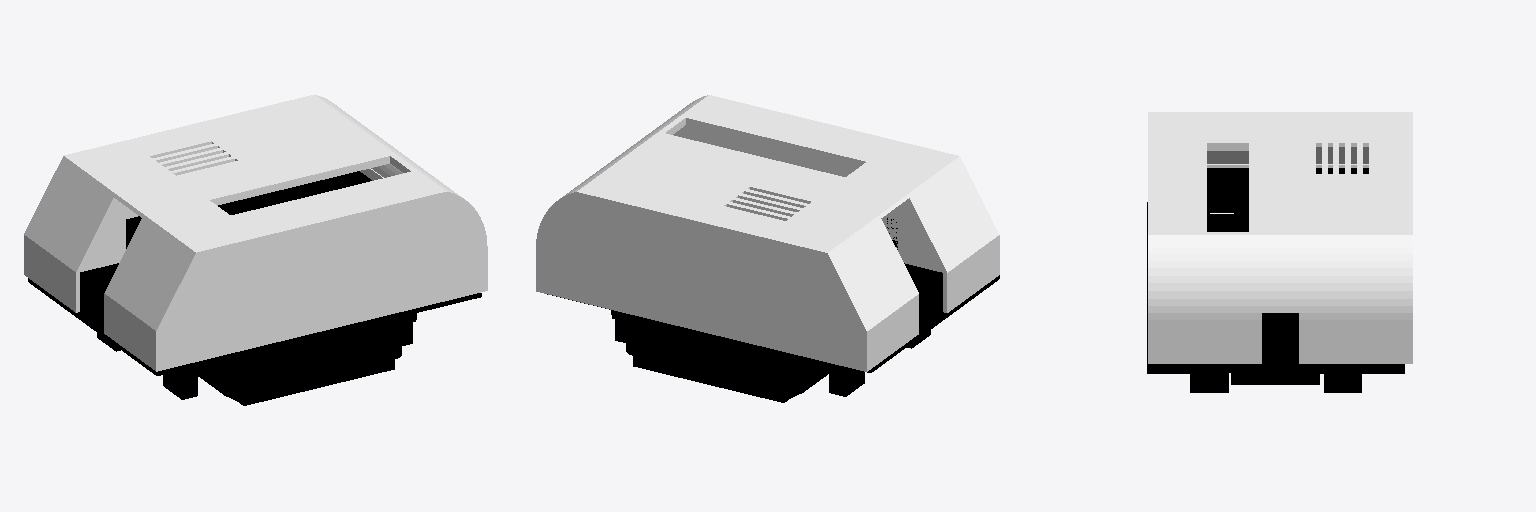
Rendered from Rover.obj.
3 views of the same model, side by side, from view 1: azimuth 30°, elevation 25°; view 2: azimuth 150°, elevation 25°; view 3: azimuth 270°, elevation 25° (orthographic).
Visible parts, largest first — view 1: Mesh1 Top1 Model, Mesh9 Model; view 2: Mesh1 Top1 Model, Mesh9 Model; view 3: Mesh1 Top1 Model, Mesh9 Model.
Boxes of the visible parts, x1,y1,x2,y2 form: Mesh1 Top1 Model: [24, 94, 487, 371]; Mesh9 Model: [28, 171, 481, 405]; Mesh1 Top1 Model: [536, 95, 999, 371]; Mesh9 Model: [547, 218, 999, 402]; Mesh1 Top1 Model: [1148, 112, 1412, 363]; Mesh9 Model: [1147, 168, 1404, 392].
Size of the model in its own units: 163 by 77.5 by 114.